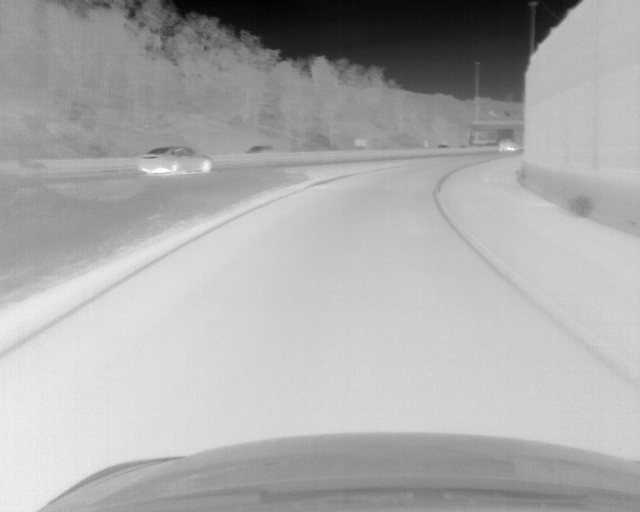car: (136, 144, 214, 175), (497, 138, 520, 153)
